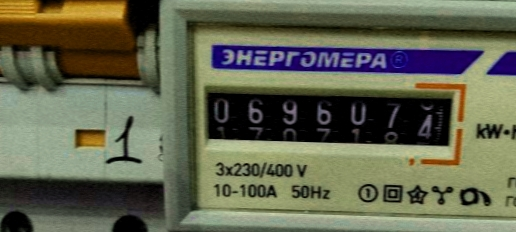0: (211, 94, 231, 124), (347, 97, 367, 125)
4: (415, 112, 433, 140)
6: (314, 96, 333, 125), (245, 96, 264, 124)
7: (382, 99, 402, 129)
9: (279, 97, 298, 126)
screen: (189, 70, 471, 166)
